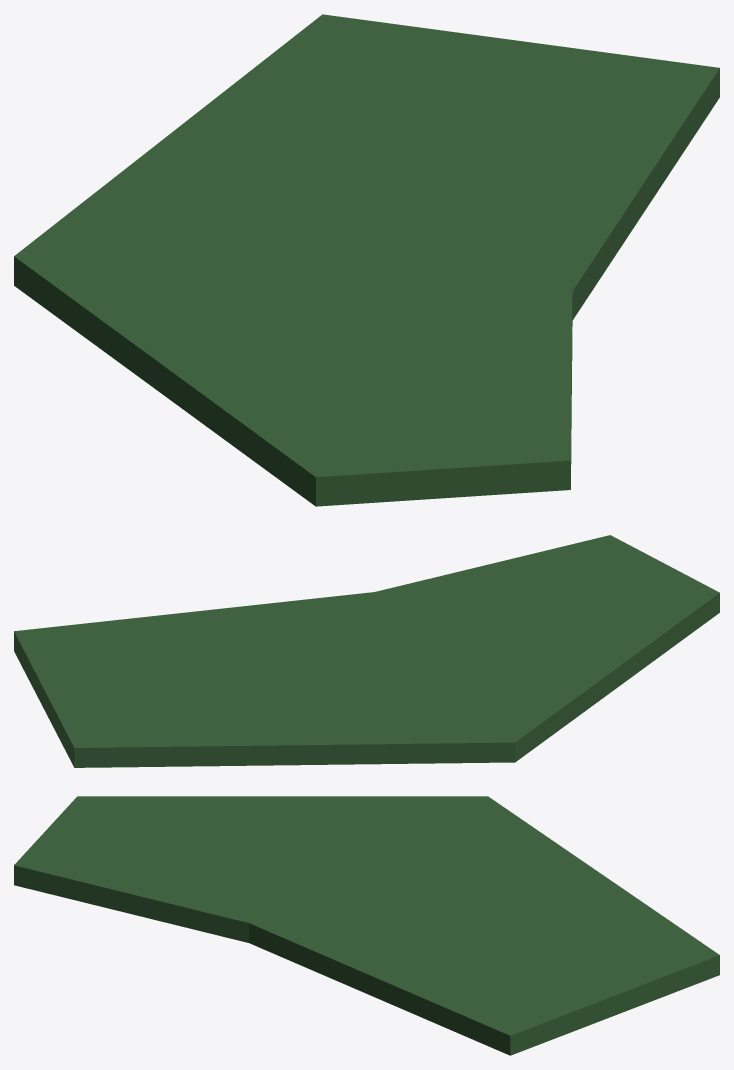
File: x_proval_00_36_1_rmstrd.fbx
3 views of the same model, one above another, from view 1: azimuth 30°, elevation 25°; view 2: azimuth 150°, elevation 25°; view 3: azimuth 270°, elevation 25° (orthographic). The views are drawn at different scales.
Visible parts, largest first — view 1: x_proval_00_36_1_rmstrd1; view 2: x_proval_00_36_1_rmstrd1; view 3: x_proval_00_36_1_rmstrd1.
Boxes of the visible parts, box(x1,y1,x2,y2) form: x_proval_00_36_1_rmstrd1: box(14, 14, 719, 506); x_proval_00_36_1_rmstrd1: box(14, 535, 719, 767); x_proval_00_36_1_rmstrd1: box(14, 796, 719, 1055).
Size of the model in its own units: 5.14 by 0.2 by 6.4.
